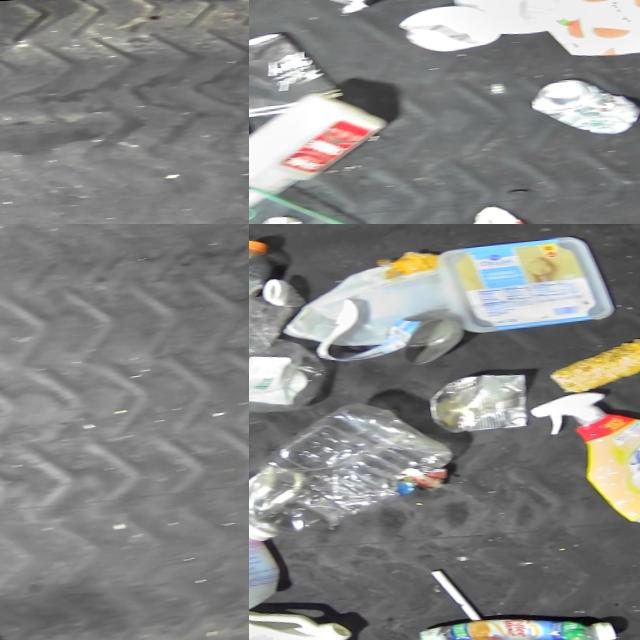can: (518, 70, 640, 143), (420, 369, 529, 434), (374, 313, 468, 367), (288, 0, 394, 15)
milk_jug: (249, 87, 393, 217), (268, 248, 448, 352), (432, 0, 618, 39), (249, 482, 277, 618), (249, 604, 350, 640)
non_white_jug: (529, 0, 640, 57)
plastic_bottle: (249, 393, 458, 543), (249, 332, 329, 420), (249, 274, 308, 356), (249, 235, 281, 342)
